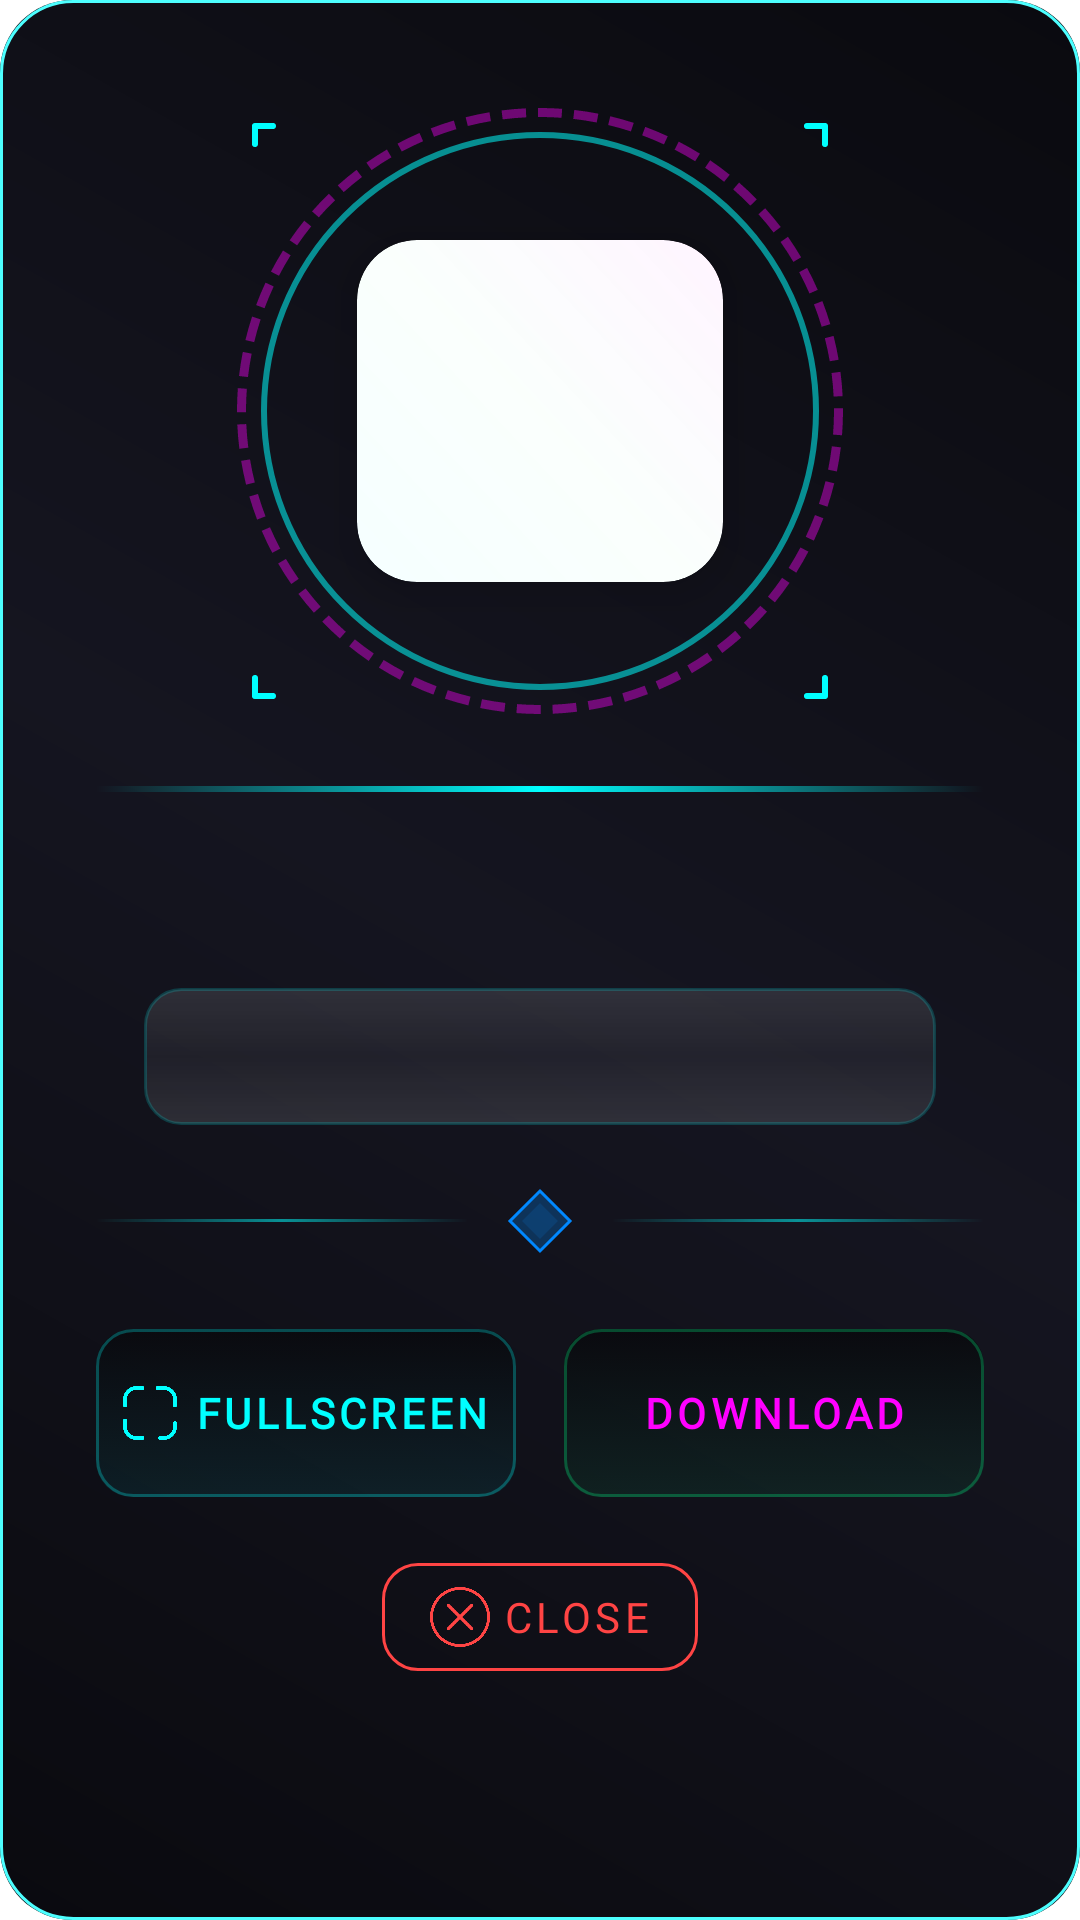

Named icons in this screenshot (1080px×1920px) and their bounding boxes, [left=x1, top=y1, right=x2, bottom=y2]:
tech diamond: [left=508, top=1189, right=572, bottom=1253]
